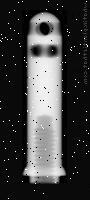3M ESPE: (22, 10, 67, 183)
